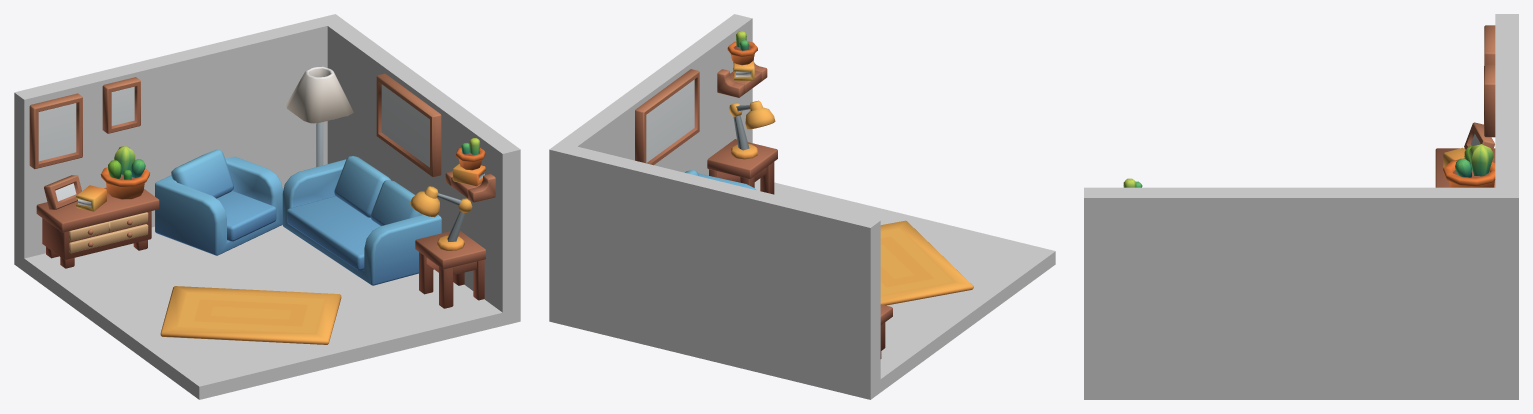
Rendered from room.glb.
3 renders of one model, left to right at view 1: azimuth 30°, elevation 25°; view 2: azimuth 150°, elevation 25°; view 3: azimuth 270°, elevation 25°, orthographic. The views are drawn at different scales.
Visible parts, largest first — view 1: Cube, couch.001, armchair.001, cabinet_medium_decorated.001, rug_rectangle_stripes_A.001, pictureframe_large_B.001, pictureframe_large_A.001, table_small.001, lamp_standing.002, shelf_B_small_decorated.001, pictureframe_medium.001, lamp_desk.001; view 2: Cube, rug_rectangle_stripes_A.001, pictureframe_large_B.001, table_small.001, shelf_B_small_decorated.001, lamp_desk.001; view 3: Cube, cabinet_medium_decorated.001, pictureframe_medium.001, pictureframe_large_A.001.
Boxes of the visible parts, left/top/right/bottom form: Cube: left=14, top=14, right=520, bottom=399; couch.001: left=282, top=156, right=441, bottom=285; armchair.001: left=155, top=149, right=282, bottom=255; cabinet_medium_decorated.001: left=36, top=146, right=159, bottom=268; rug_rectangle_stripes_A.001: left=160, top=286, right=341, bottom=344; pictureframe_large_B.001: left=376, top=73, right=441, bottom=177; pictureframe_large_A.001: left=29, top=93, right=82, bottom=169; table_small.001: left=415, top=231, right=485, bottom=308; lamp_standing.002: left=286, top=66, right=353, bottom=123; shelf_B_small_decorated.001: left=445, top=138, right=495, bottom=202; pictureframe_medium.001: left=102, top=77, right=140, bottom=133; lamp_desk.001: left=410, top=186, right=472, bottom=250; Cube: left=549, top=14, right=1055, bottom=399; rug_rectangle_stripes_A.001: left=880, top=220, right=973, bottom=305; pictureframe_large_B.001: left=635, top=69, right=699, bottom=165; table_small.001: left=707, top=139, right=777, bottom=194; shelf_B_small_decorated.001: left=717, top=31, right=767, bottom=97; lamp_desk.001: left=729, top=100, right=775, bottom=159; Cube: left=1084, top=14, right=1518, bottom=399; cabinet_medium_decorated.001: left=1435, top=122, right=1495, bottom=187; pictureframe_medium.001: left=1484, top=64, right=1495, bottom=137; pictureframe_large_A.001: left=1484, top=25, right=1495, bottom=65.
Bounding box in the file's own units: 6.57 × 3.41 × 6.56.
Materials: 1 (1 with a texture image).
